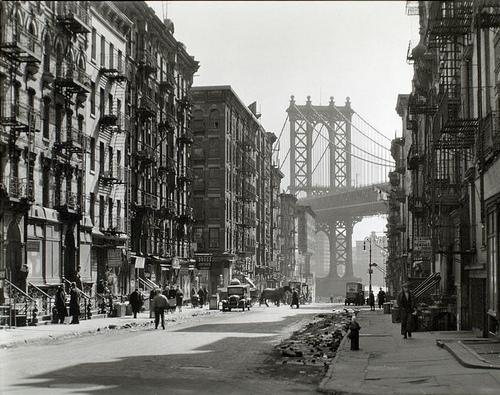truck: (221, 282, 252, 312), (344, 282, 366, 306)
